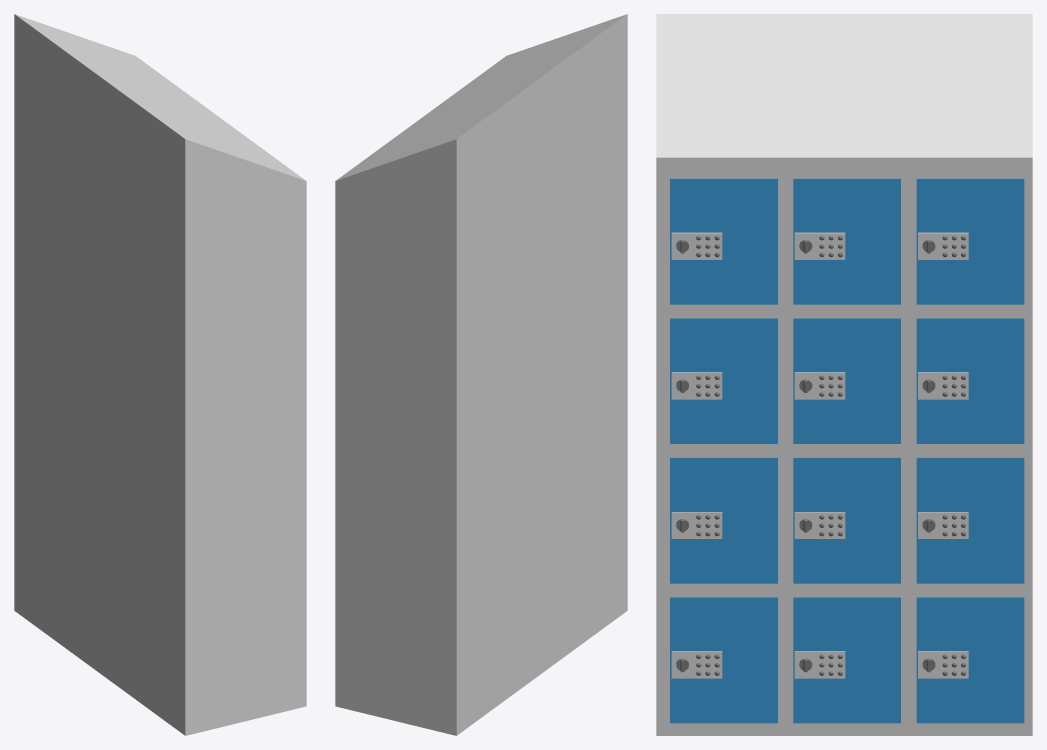
The model's file is Spind.fbx.
3 views of the same model, side by side, from view 1: azimuth 30°, elevation 25°; view 2: azimuth 150°, elevation 25°; view 3: azimuth 270°, elevation 25° (orthographic). The views are drawn at different scales.
Parts seen in each view (by area): view 1: Cube; view 2: Cube; view 3: Cube, Cube.010, Cube.003, Cube.009, Cube.004, Cube.011, Cube.012, Cube.001, Cube.002, Cube.007, Cube.008, Cube.005 (+15 smaller).
Boxes of the visible parts, x1,y1,x2,y2 form: Cube: (14,14,306,735); Cube: (335,14,627,735); Cube: (656,14,1032,735); Cube.010: (916,597,1024,723); Cube.003: (916,178,1024,304); Cube.009: (916,457,1024,583); Cube.004: (916,318,1024,443); Cube.011: (793,597,900,723); Cube.012: (670,597,777,723); Cube.001: (670,178,777,304); Cube.002: (793,178,900,304); Cube.007: (670,457,777,583); Cube.008: (793,457,900,583); Cube.005: (793,318,900,443).
Bounding box in the file's own units: 0.5233 × 2.35 × 1.22.
